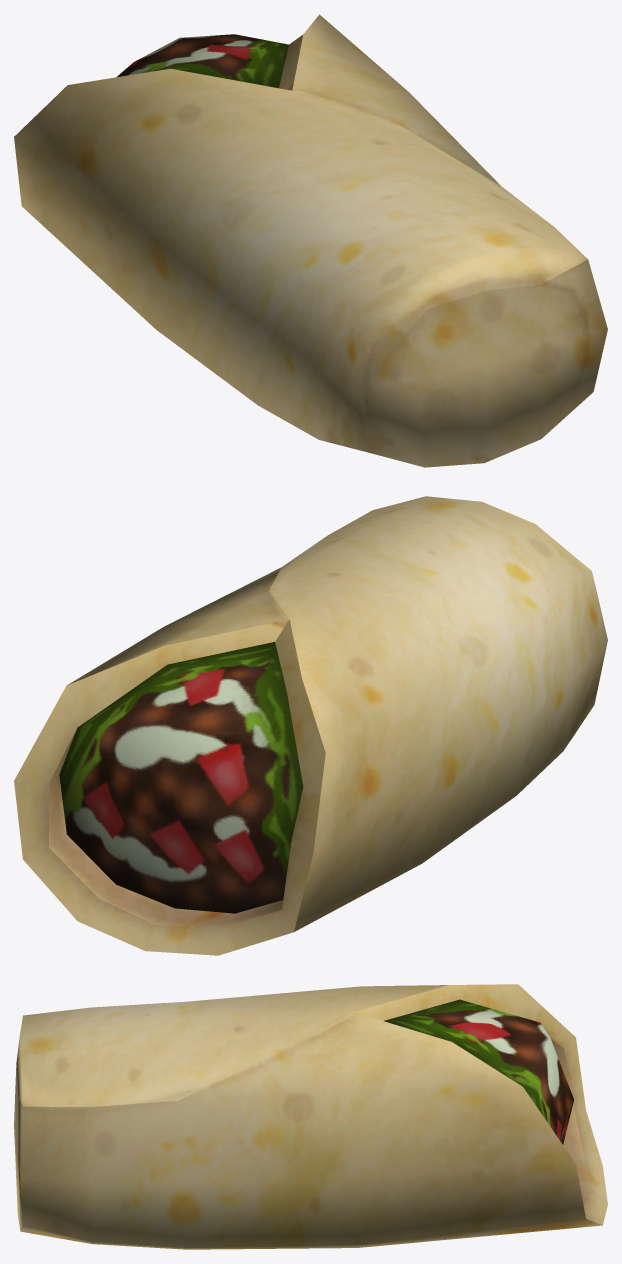
File: Burrito.fbx
3 views of the same model, one above another, from view 1: azimuth 30°, elevation 25°; view 2: azimuth 150°, elevation 25°; view 3: azimuth 270°, elevation 25° (orthographic). The views are drawn at different scales.
Parts seen in each view (by area): view 1: Burrito; view 2: Burrito; view 3: Burrito.
Boxes of the visible parts, box(x1,y1,x2,y2) form: Burrito: box(14, 14, 607, 467); Burrito: box(14, 496, 607, 955); Burrito: box(14, 984, 607, 1249).
Bounding box in the file's own units: 0.3969 × 0.3163 × 0.785.
1 material, 1 textured.
